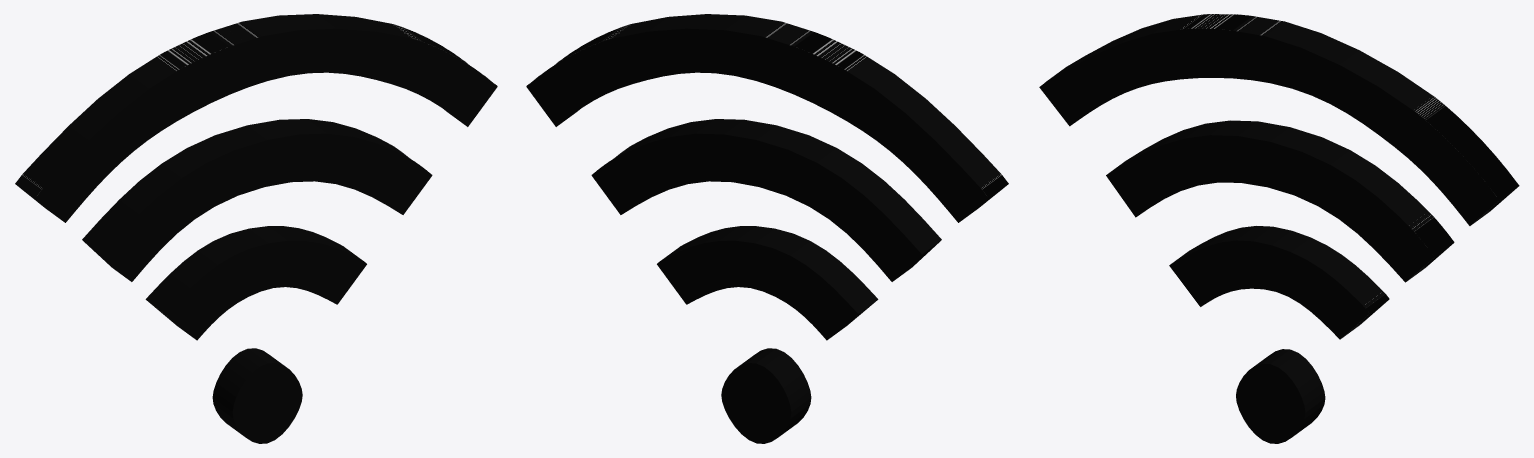
File: wifiSignal.FBX
3 views of the same model, side by side, from view 1: azimuth 30°, elevation 25°; view 2: azimuth 150°, elevation 25°; view 3: azimuth 330°, elevation 25° (orthographic).
Visible parts, largest first — view 1: wifiSignal; view 2: wifiSignal; view 3: wifiSignal.
Part boxes in pixels (x1,y1,x2,y2): wifiSignal: (15,14,497,443); wifiSignal: (526,14,1008,443); wifiSignal: (1039,14,1519,443).
Bounding box in the file's own units: 46.23 × 38.91 × 3.47.
Materials: 1 (1 with a texture image).
